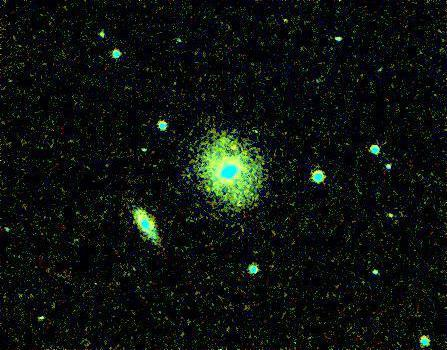star: (219, 134, 249, 164)
